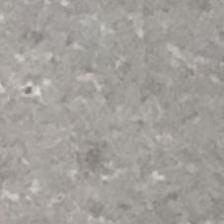Non_Crack: (37, 44, 199, 184)
